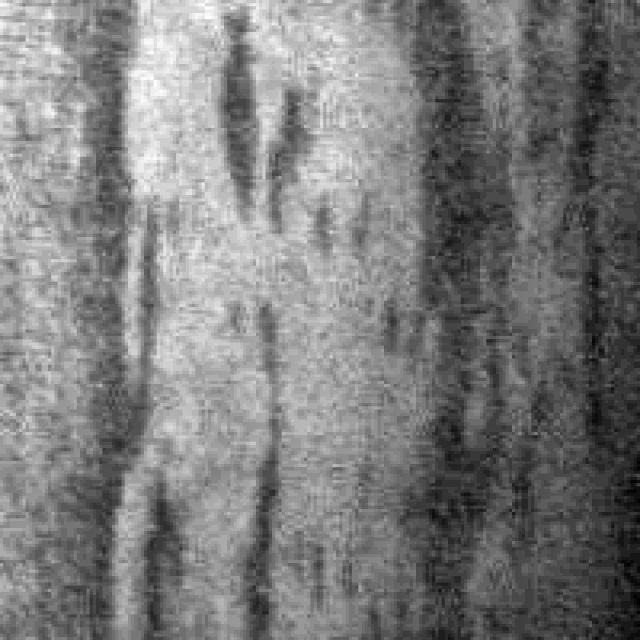Patches: (381, 6, 518, 628), (22, 6, 150, 628), (214, 284, 301, 630), (554, 3, 614, 467), (198, 3, 298, 243)
